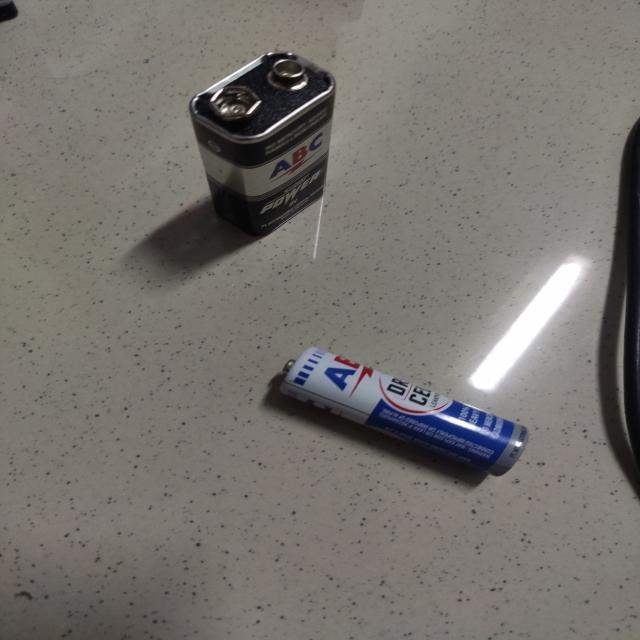hazardous waste: (267, 330, 534, 490), (174, 41, 352, 235)
